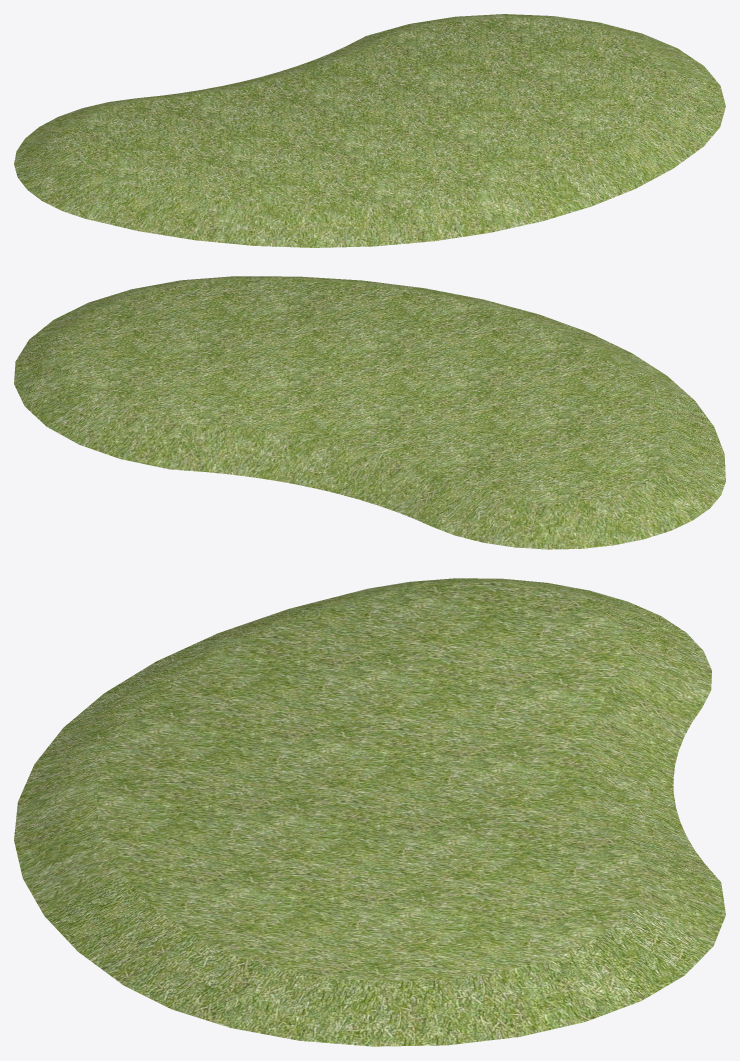
File: lawn.gltf
3 renders of one model, top to bottom at view 1: azimuth 30°, elevation 25°; view 2: azimuth 150°, elevation 25°; view 3: azimuth 270°, elevation 25°, orthographic. The views are drawn at different scales.
Parts seen in each view (by area): view 1: 花坛_草坪27; view 2: 花坛_草坪27; view 3: 花坛_草坪27.
Part boxes in pixels (bbox=[...]): 花坛_草坪27: bbox=[14, 14, 725, 247]; 花坛_草坪27: bbox=[14, 276, 725, 549]; 花坛_草坪27: bbox=[14, 578, 725, 1046].
Bounding box in the file's own units: 4.6 × 0.1397 × 2.96.
1 material, 1 textured.
